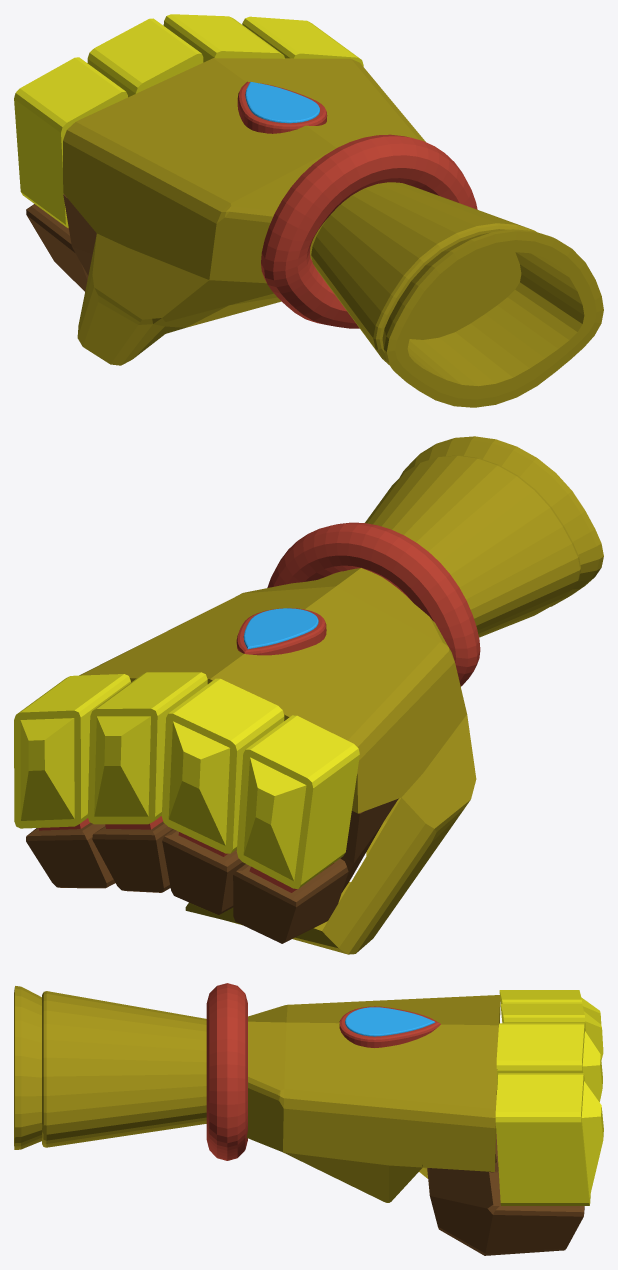
The model's file is Oddvar's Fist DX.fbx.
3 renders of one model, top to bottom at view 1: azimuth 30°, elevation 25°; view 2: azimuth 150°, elevation 25°; view 3: azimuth 270°, elevation 25°, orthographic. The views are drawn at different scales.
Visible parts, largest first — view 1: Dorso, Avambraccio, Polsino, Nocca, Nocca.001, Nocca.002, Gem, Nocca.003, Indice, Cube.001; view 2: Dorso, Avambraccio, Nocca, Nocca.001, Nocca.002, Polsino, Nocca.003, Indice, Medio, Anulare, Mignolo, Gem (+1 smaller); view 3: Dorso, Avambraccio, Nocca.003, Mignolo, Polsino, Nocca.002, Gem, Nocca.001, Nocca.
Boxes of the visible parts, x1,y1,x2,y2 form: Dorso: (63, 58, 425, 365); Avambraccio: (311, 182, 603, 407); Polsino: (261, 134, 477, 328); Nocca: (14, 57, 127, 228); Nocca.001: (87, 18, 203, 97); Nocca.002: (163, 14, 285, 62); Gem: (237, 81, 327, 133); Nocca.003: (242, 16, 363, 66); Indice: (26, 204, 88, 291); Cube.001: (63, 194, 96, 275); Dorso: (79, 568, 476, 954); Avambraccio: (365, 436, 603, 637); Nocca: (236, 715, 359, 888); Nocca.001: (161, 678, 284, 853); Nocca.002: (87, 672, 207, 824); Polsino: (267, 522, 480, 686); Nocca.003: (14, 674, 130, 828); Indice: (233, 858, 348, 943); Medio: (162, 829, 245, 914); Anulare: (92, 816, 173, 892); Mignolo: (26, 818, 115, 888); Gem: (236, 608, 326, 655); Dorso: (246, 995, 500, 1202); Avambraccio: (14, 986, 206, 1149); Nocca.003: (495, 1073, 603, 1205); Mignolo: (427, 1168, 584, 1255); Polsino: (206, 983, 247, 1160); Nocca.002: (496, 1023, 602, 1102); Gem: (339, 1006, 440, 1047); Nocca.001: (500, 1004, 603, 1060); Nocca: (499, 990, 601, 1024).
Bounding box in the file's own units: 259 × 485 × 222.
